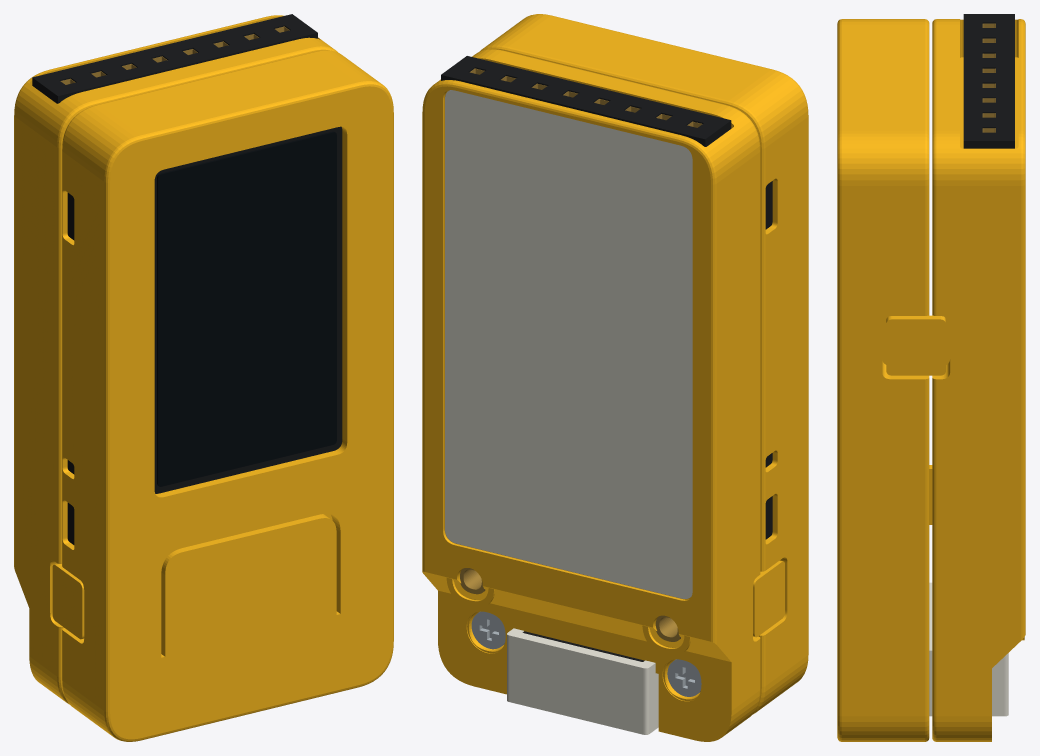
The model's file is stickc-plus2.glb.
3 views of the same model, side by side, from view 1: azimuth 30°, elevation 25°; view 2: azimuth 150°, elevation 25°; view 3: azimuth 270°, elevation 25° (orthographic).
Visible parts, largest first — view 1: housing_front, display_glass, housing_rear, HAT_header, display_bezel, button_C; view 2: rear_label, housing_rear, housing_front, Grove_socket, HAT_header, button_C, screw_8, screw_-8; view 3: housing_front, housing_rear, HAT_header, button_B, Grove_socket.
Part boxes in pixels (<box>): housing_front: <box>62,50,393,741</box>; display_glass: <box>157,131,336,486</box>; housing_rear: <box>14,15,337,704</box>; HAT_header: <box>32,14,317,103</box>; display_bezel: <box>154,126,342,493</box>; button_C: <box>52,563,84,639</box>; rear_label: <box>445,90,692,598</box>; housing_rear: <box>422,49,760,741</box>; housing_front: <box>480,14,808,714</box>; Grove_socket: <box>507,628,658,734</box>; HAT_header: <box>441,56,731,146</box>; button_C: <box>753,560,784,637</box>; screw_8: <box>471,611,505,649</box>; screw_-8: <box>667,659,701,696</box>; housing_front: <box>837,19,929,741</box>; housing_rear: <box>932,19,1025,741</box>; HAT_header: <box>963,14,1014,148</box>; button_B: <box>886,315,945,375</box>; Grove_socket: <box>929,582,1008,716</box>.
Size of the model in its own units: 0.024 by 0.048 by 0.0135.
